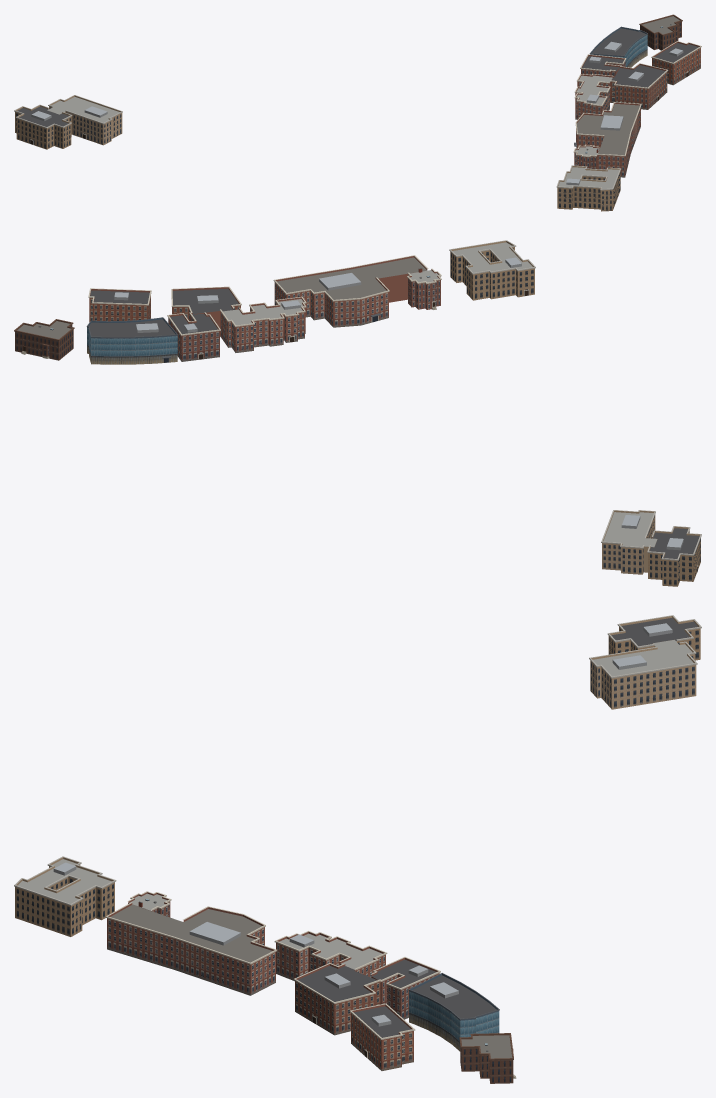
The model's file is buildings-fenway.glb.
3 renders of one model, top to bottom at view 1: azimuth 30°, elevation 25°; view 2: azimuth 150°, elevation 25°; view 3: azimuth 270°, elevation 25°, orthographic. The views are drawn at different scales.
Parts seen in each view (by area): view 1: buildings-fenway; view 2: buildings-fenway; view 3: buildings-fenway.
Part boxes in pixels (bbox=[...]): buildings-fenway: bbox=[14, 14, 701, 211]; buildings-fenway: bbox=[14, 240, 701, 586]; buildings-fenway: bbox=[14, 615, 701, 1083].
Size of the model in its own units: 456 by 17.2 by 304.
Materials: 24 (5 with a texture image).
